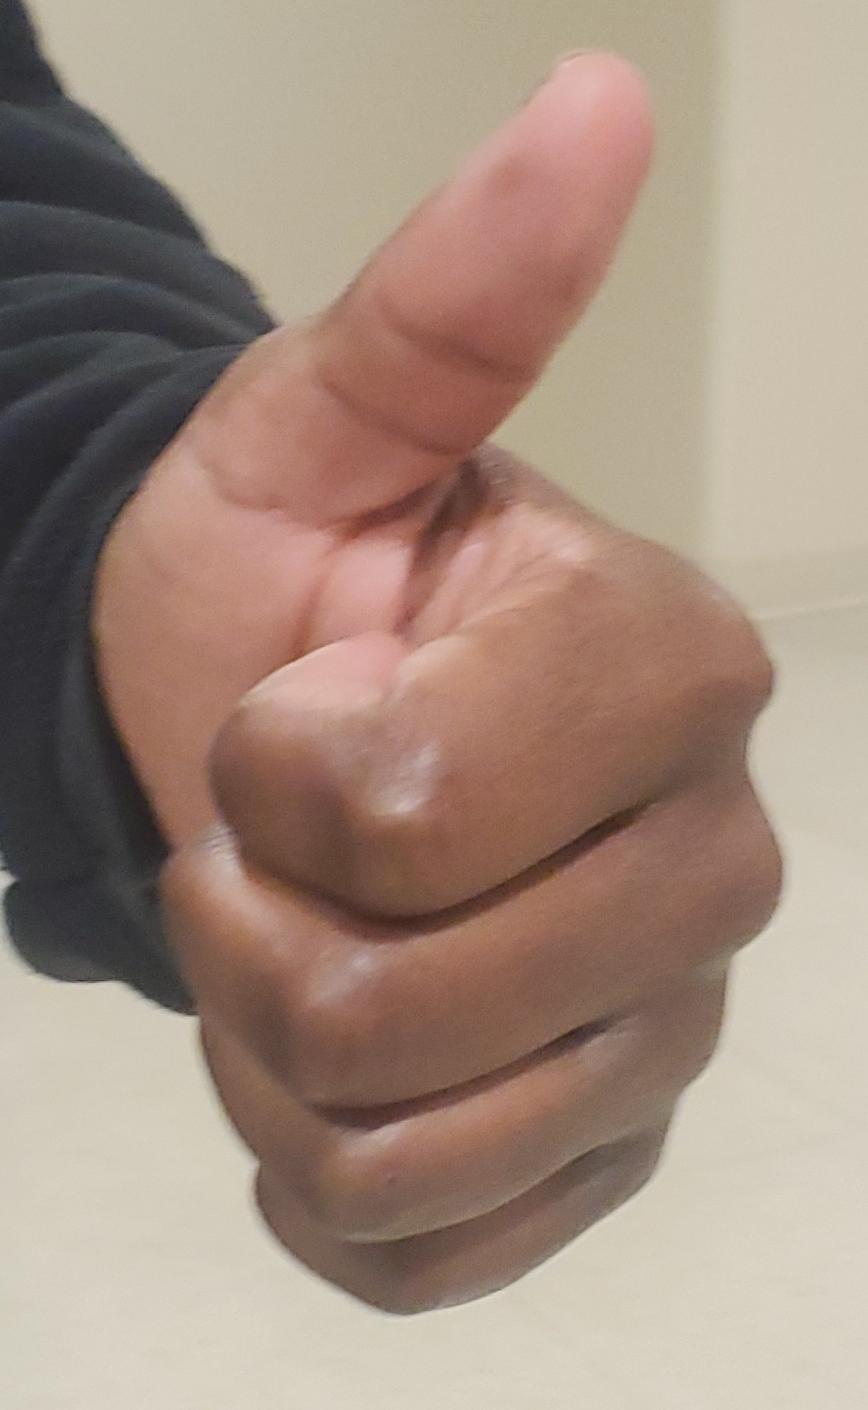up: (0, 1, 868, 1410)
